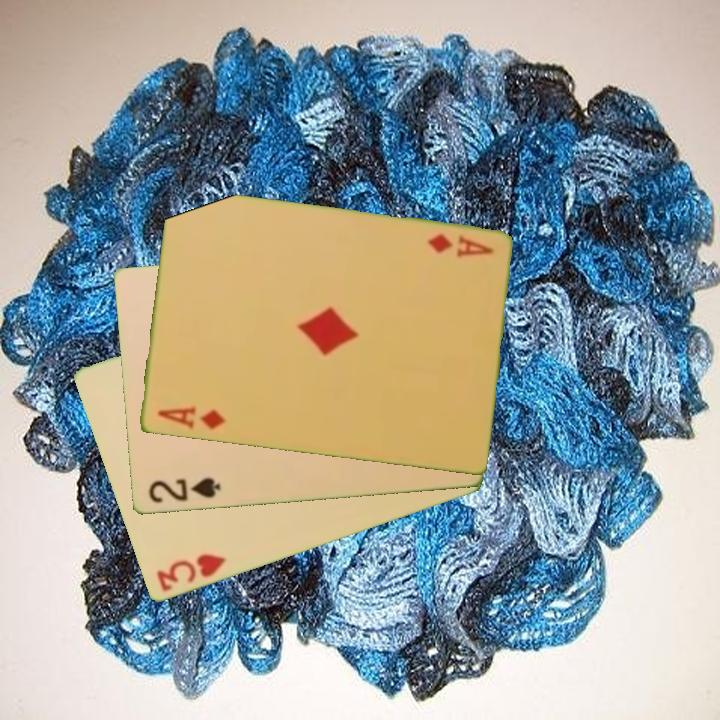2s: (145, 475, 223, 506)
3h: (152, 551, 228, 595)
Ad: (154, 403, 228, 433), (423, 230, 497, 260)
